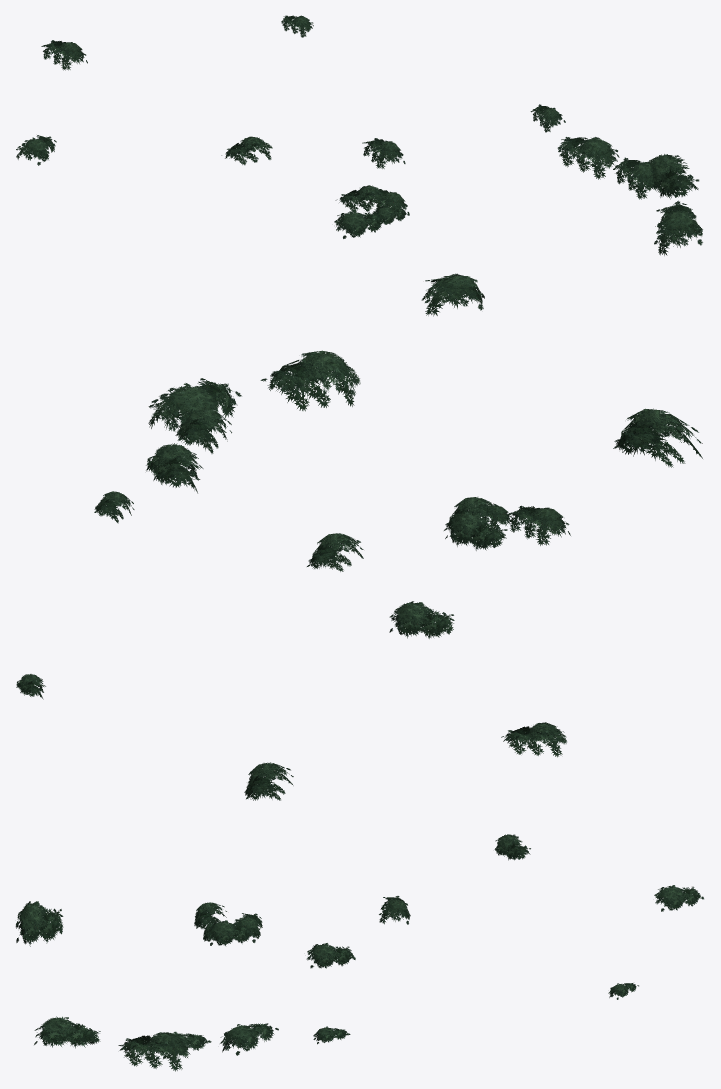
Rendered from tree06.fbx.
3 views of the same model, one above another, from view 1: azimuth 30°, elevation 25°; view 2: azimuth 150°, elevation 25°; view 3: azimuth 270°, elevation 25° (orthographic). The views are drawn at different scales.
Parts seen in each view (by area): view 1: tree06; view 2: tree06; view 3: tree06.
Part boxes in pixels (left/top/right/bottom): tree06: left=16, top=15, right=702, bottom=316; tree06: left=16, top=350, right=702, bottom=800; tree06: left=15, top=834, right=703, bottom=1071.
Bounding box in the file's own units: 5117 × 475 × 6609.
